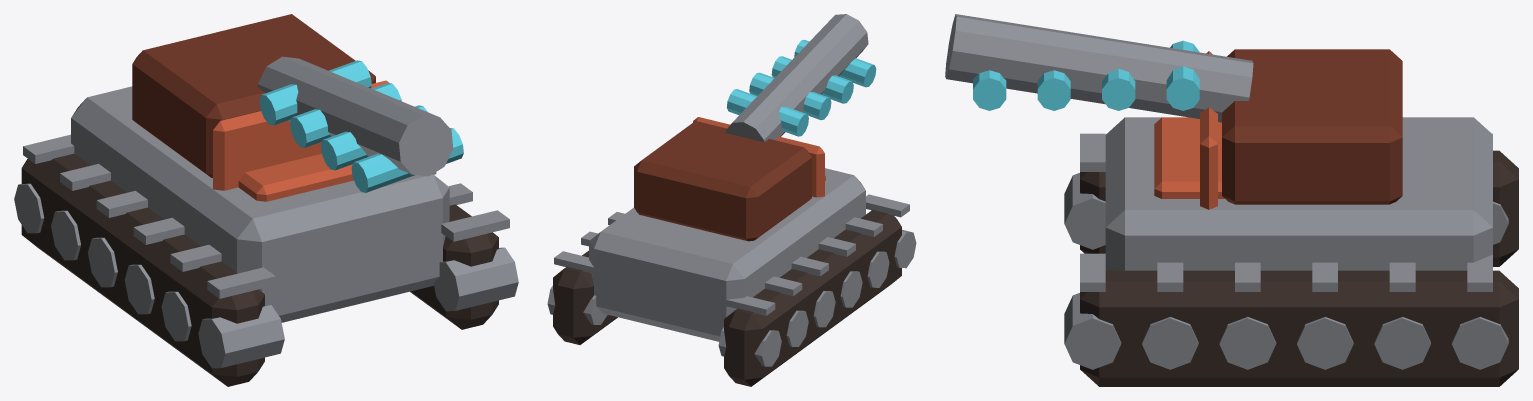
Rendered from u_artillery.glb.
3 renders of one model, left to right at view 1: azimuth 30°, elevation 25°; view 2: azimuth 150°, elevation 25°; view 3: azimuth 270°, elevation 25°, orthographic. The views are drawn at different scales.
Visible parts, largest first — view 1: u_artillery; view 2: u_artillery; view 3: u_artillery.
Boxes of the visible parts, left/top/right/bottom form: u_artillery: left=14, top=14, right=518, bottom=386; u_artillery: left=547, top=14, right=916, bottom=386; u_artillery: left=945, top=14, right=1518, bottom=386.
Size of the model in its own units: 0.3389 by 0.32 by 0.5457.
